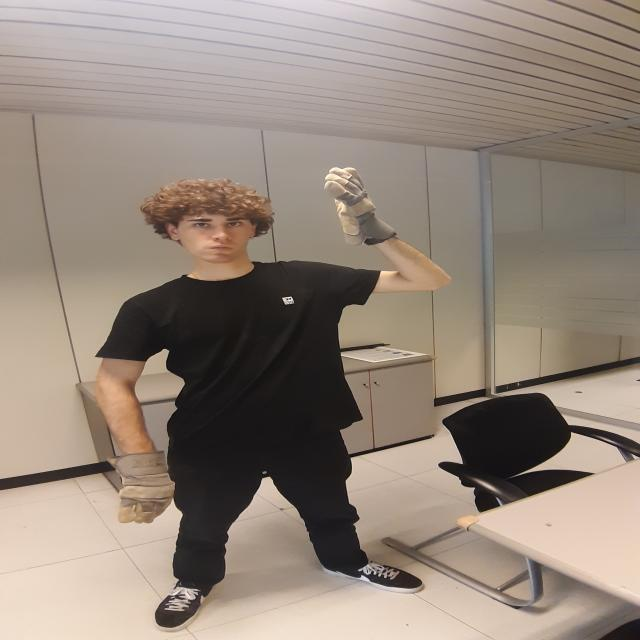gloved_hand: (107, 448, 177, 526), (325, 166, 394, 244)
